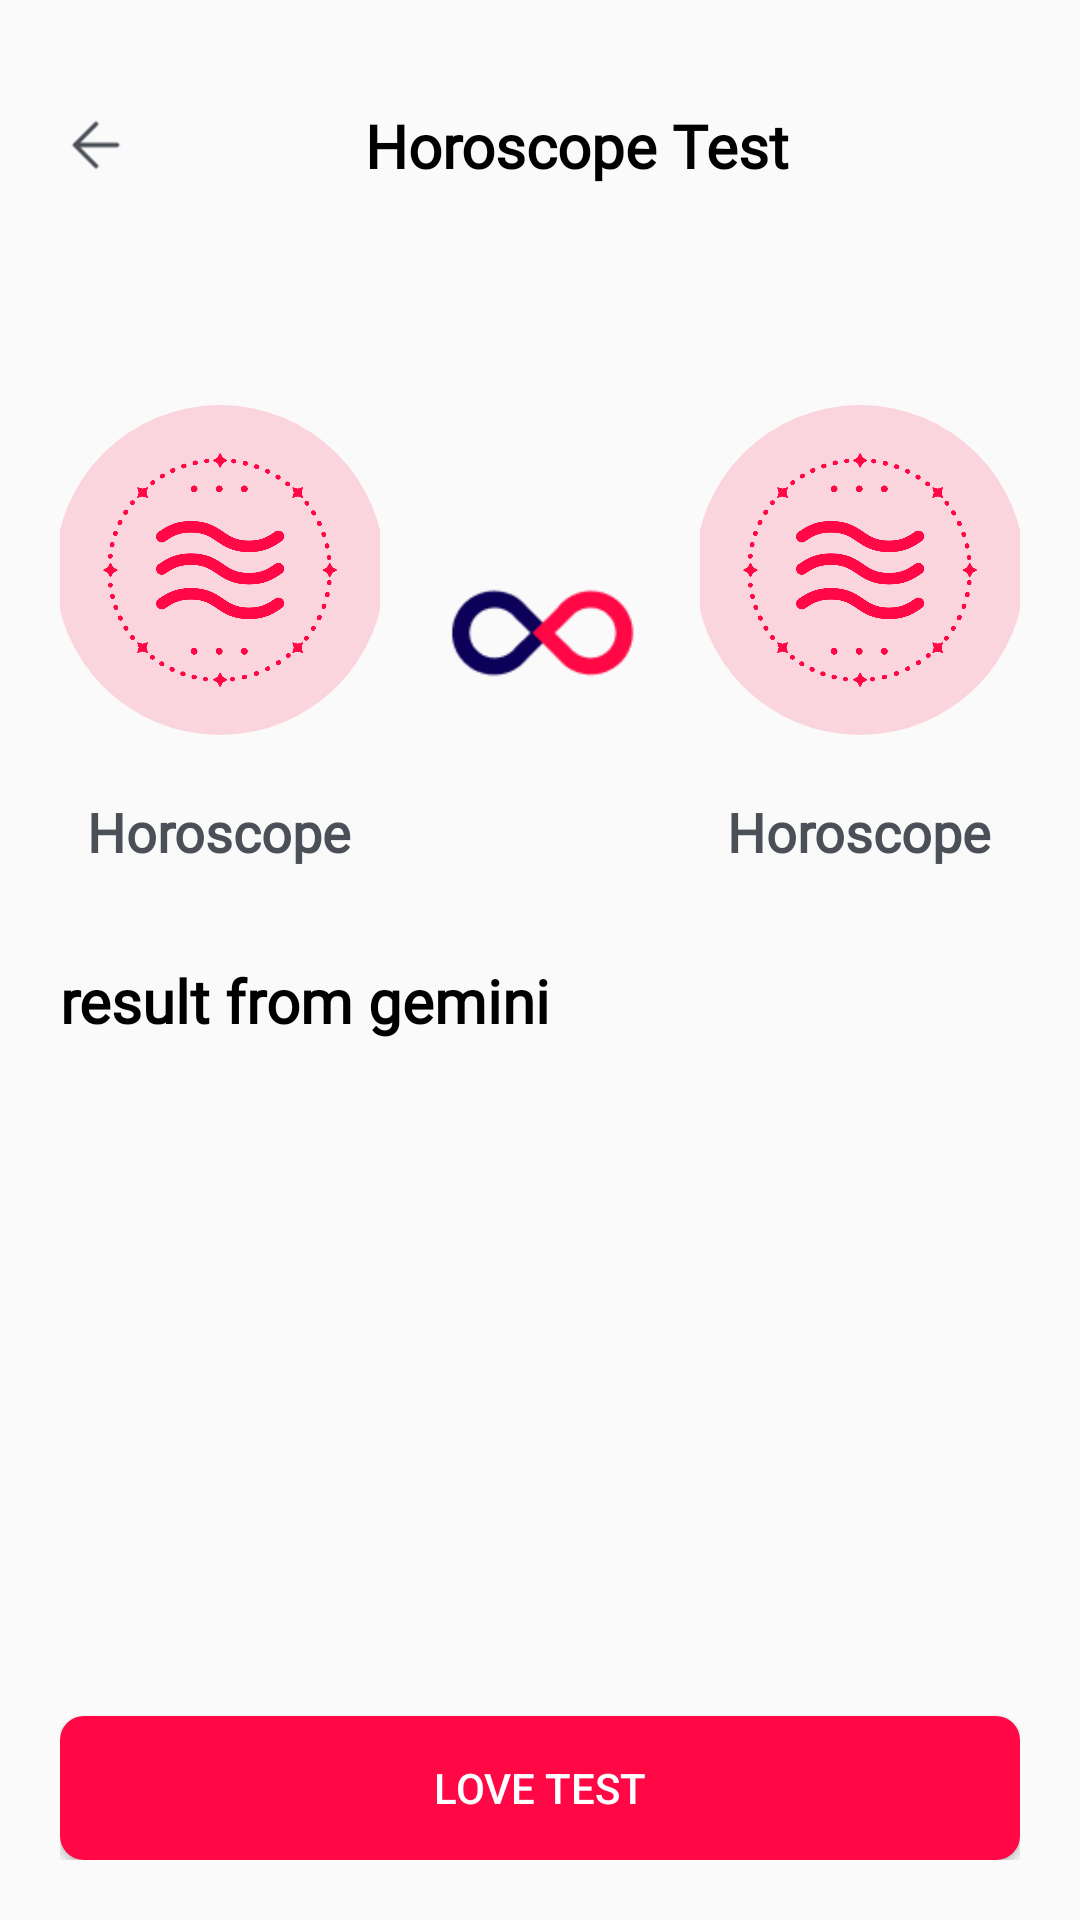

Point at icon controls on the screen. Image size 1080w x 1920h, points as (x=x, y=y).
aquarius: (x=220, y=570), (x=860, y=570)
back: (x=96, y=145)
